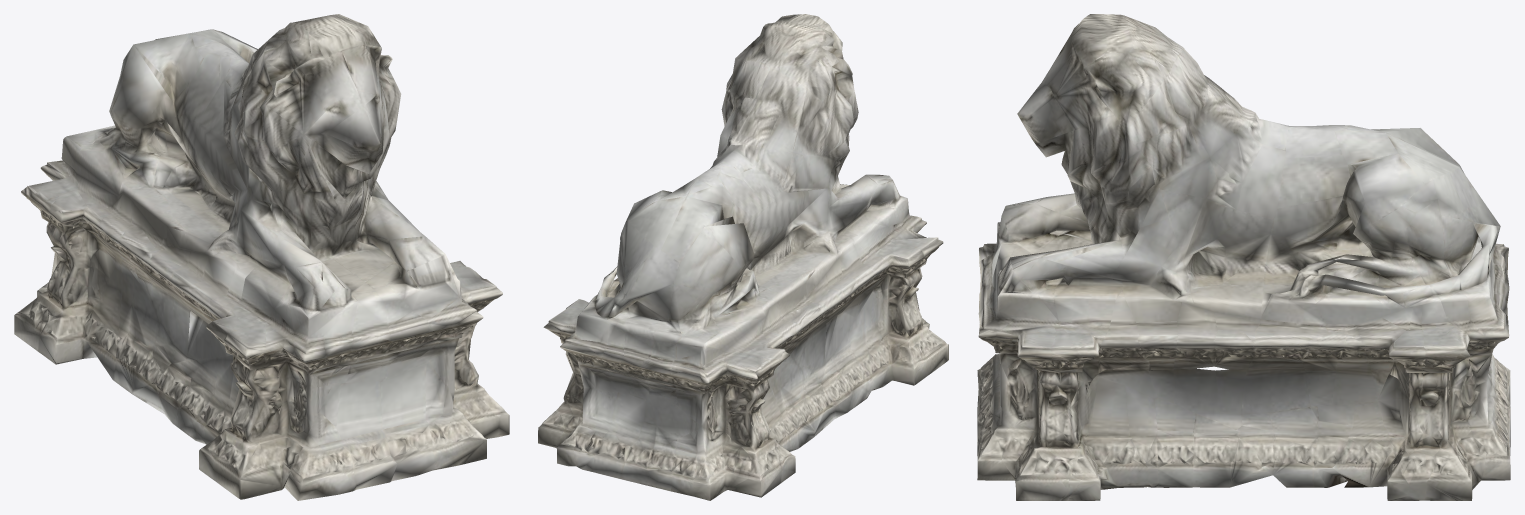
The model's file is lion.glb.
The picture shows the model from 3 angles, left to right: view 1: azimuth 30°, elevation 25°; view 2: azimuth 150°, elevation 25°; view 3: azimuth 270°, elevation 25°; orthographic projection. The views are drawn at different scales.
Visible parts, largest first — view 1: lion; view 2: lion; view 3: lion.
Part boxes in pixels (x1,y1,x2,y2): lion: (14,14,509,500); lion: (538,14,948,500); lion: (977,14,1510,500).
Bounding box in the file's own units: 111 × 161 × 190.
Materials: 1 (1 with a texture image).
